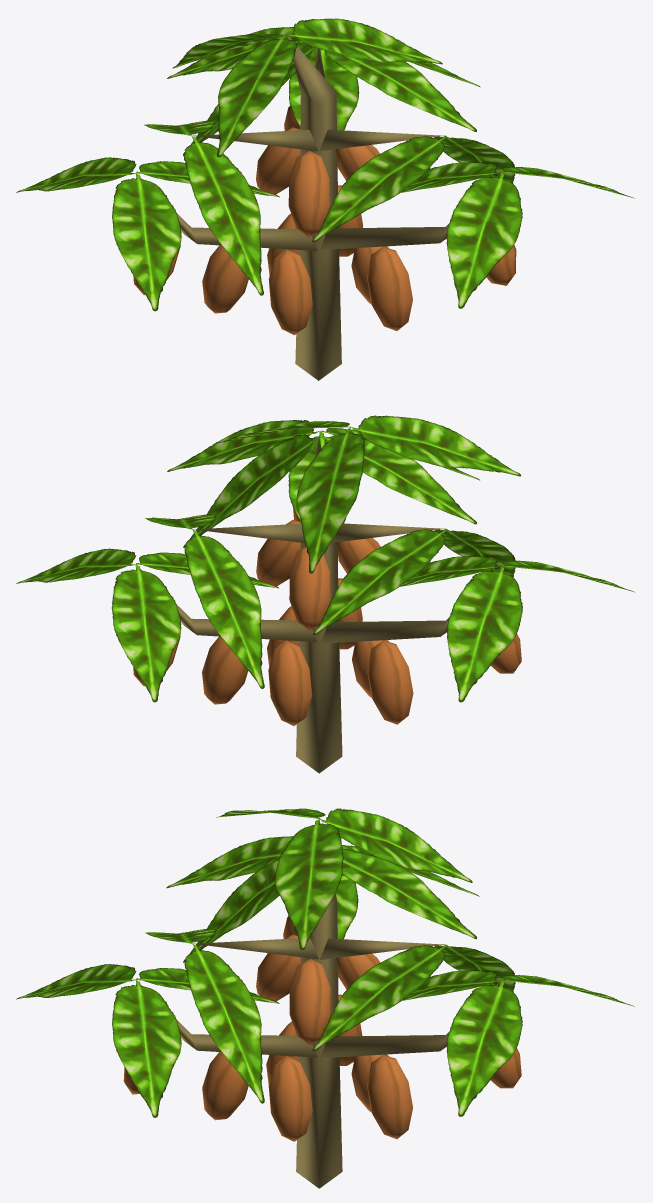
Rendered from cacau maduro.fbx.
3 views of the same model, one above another, from view 1: azimuth 30°, elevation 25°; view 2: azimuth 150°, elevation 25°; view 3: azimuth 270°, elevation 25° (orthographic).
Parts seen in each view (by area): view 1: cacau maduro; view 2: cacau maduro; view 3: cacau maduro.
Boxes of the visible parts, box(x1,y1,x2,y2) form: cacau maduro: box(16, 18, 634, 380); cacau maduro: box(16, 415, 634, 773); cacau maduro: box(16, 808, 634, 1188).
Size of the model in its own units: 237 by 162 by 265.
3 materials, 2 textured.
